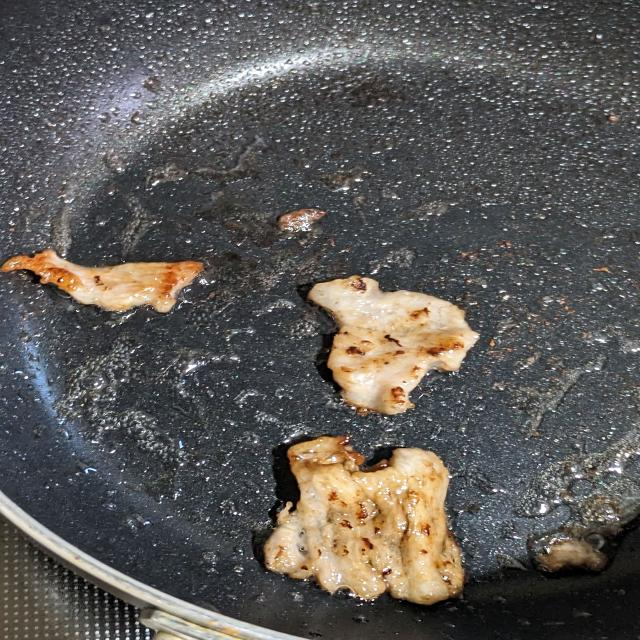OK cooked pork,: (239, 433, 474, 615), (269, 269, 487, 417), (0, 242, 228, 323)
